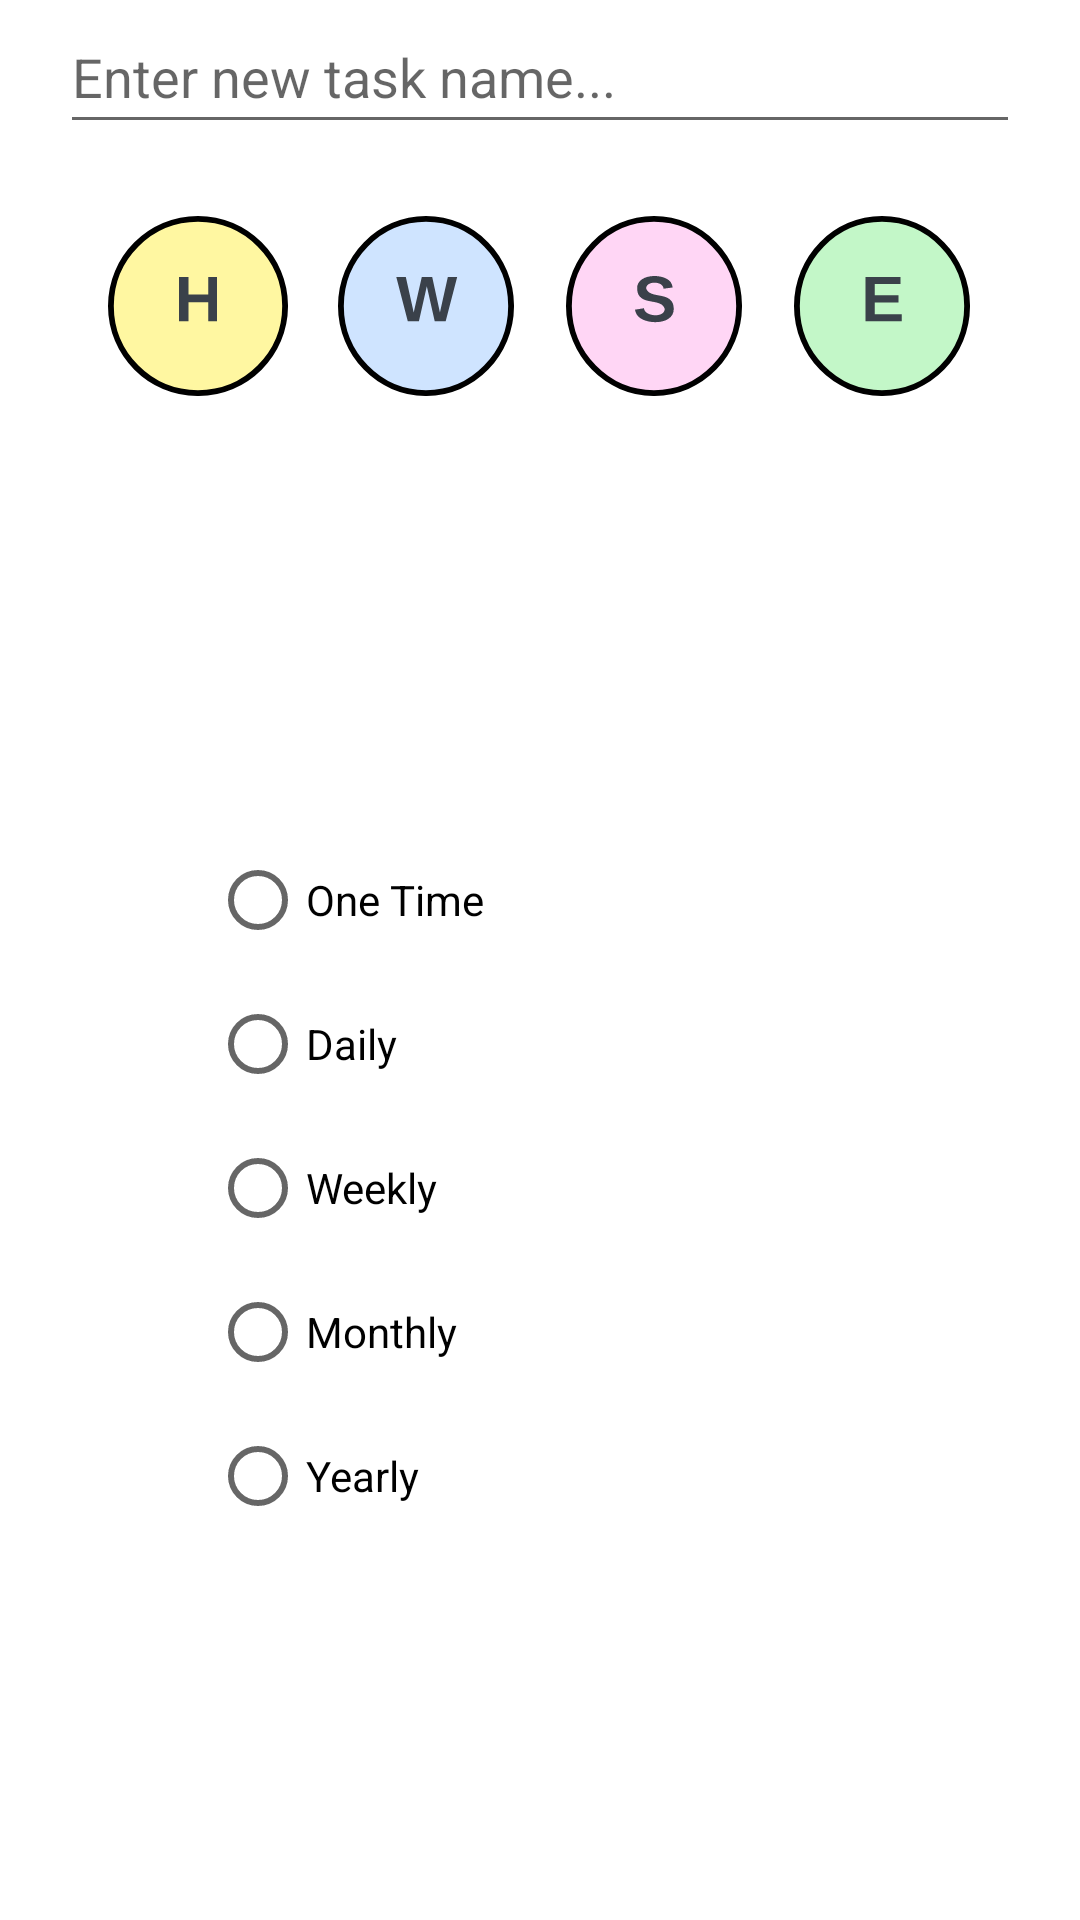

Screen size 1080px×1920px. Icon name, then its box in pixels as (x1, y1, x2, y2):
errand tag: (794, 216, 970, 396)
home tag: (108, 216, 288, 396)
school tag: (566, 216, 742, 396)
work tag: (338, 216, 514, 396)
